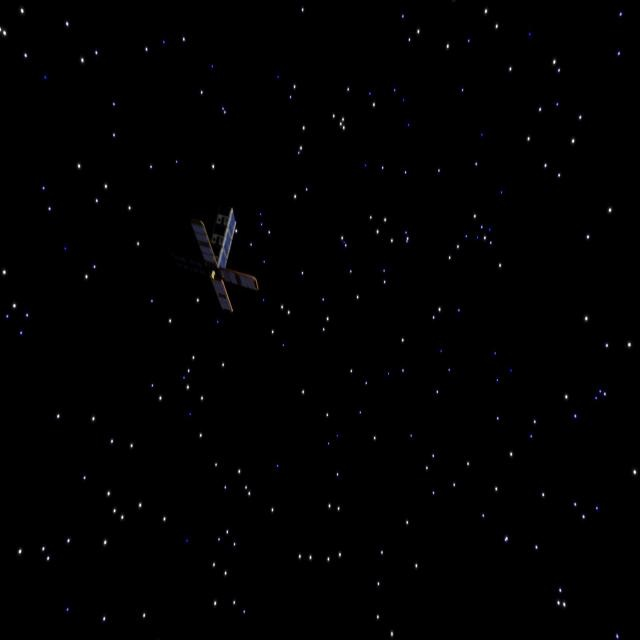medium_debris: (184, 202, 260, 308)
